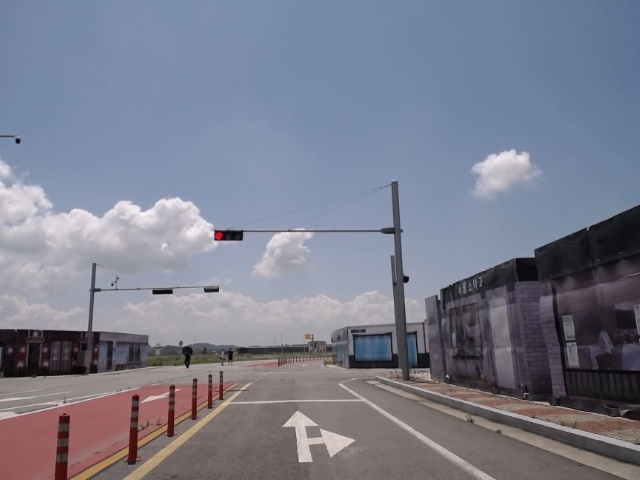red_3: (212, 230, 246, 242)
